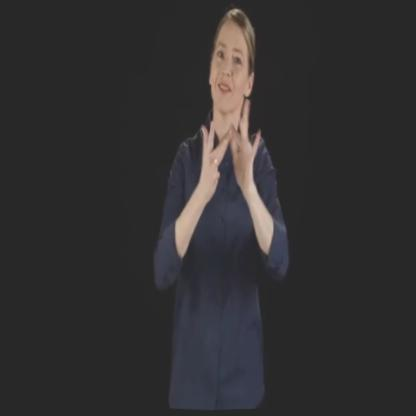Internet: (180, 91, 273, 210)
